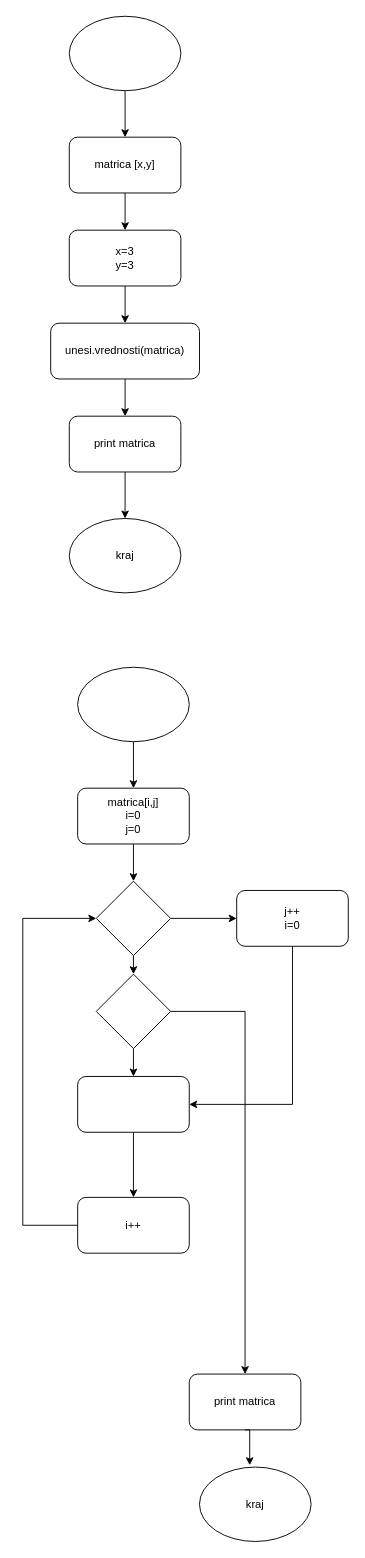
Image size: 365x1558. Some labels were removed from this diagram. Here are the shapes that lost their labels. From the top down, the box of each, then its label:
(68, 15, 181, 91): start
(77, 666, 189, 742): unesi.vrednosti
(95, 880, 171, 956): i<x
(95, 973, 171, 1049): j<y
(77, 1076, 189, 1132): read matrica[i,j]
